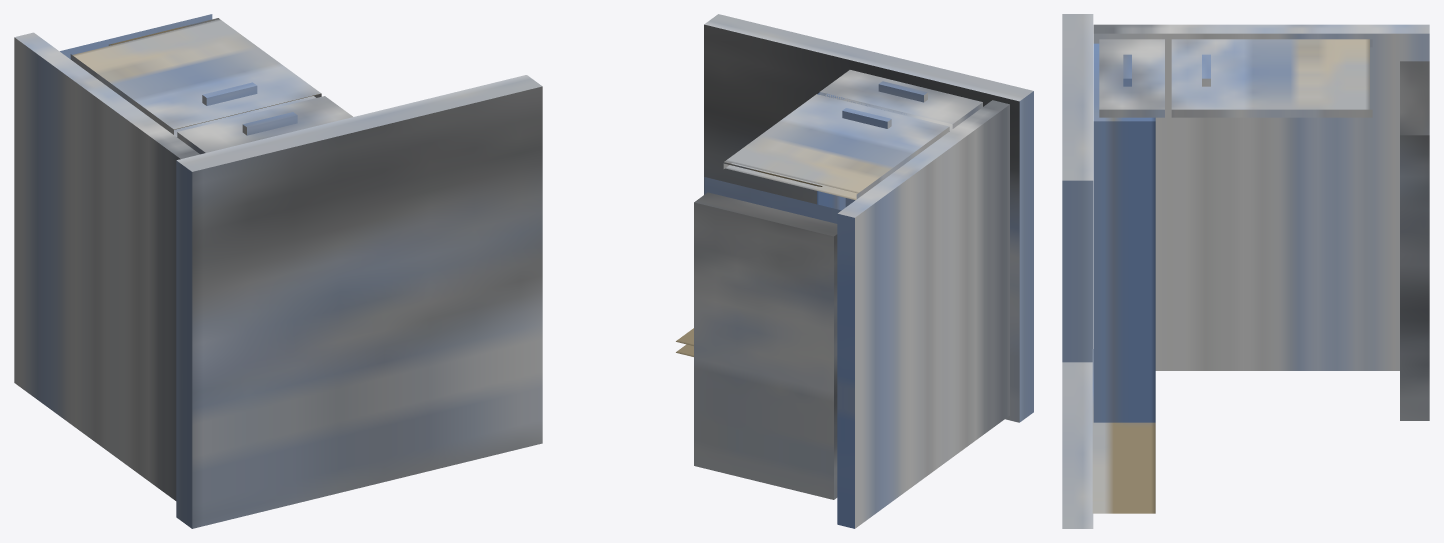
The model's file is section-2.obj.
3 renders of one model, left to right at view 1: azimuth 30°, elevation 25°; view 2: azimuth 150°, elevation 25°; view 3: azimuth 270°, elevation 25°, orthographic. The views are drawn at different scales.
Bounding box in the file's own units: 0.902 × 0.879 × 0.8395.
